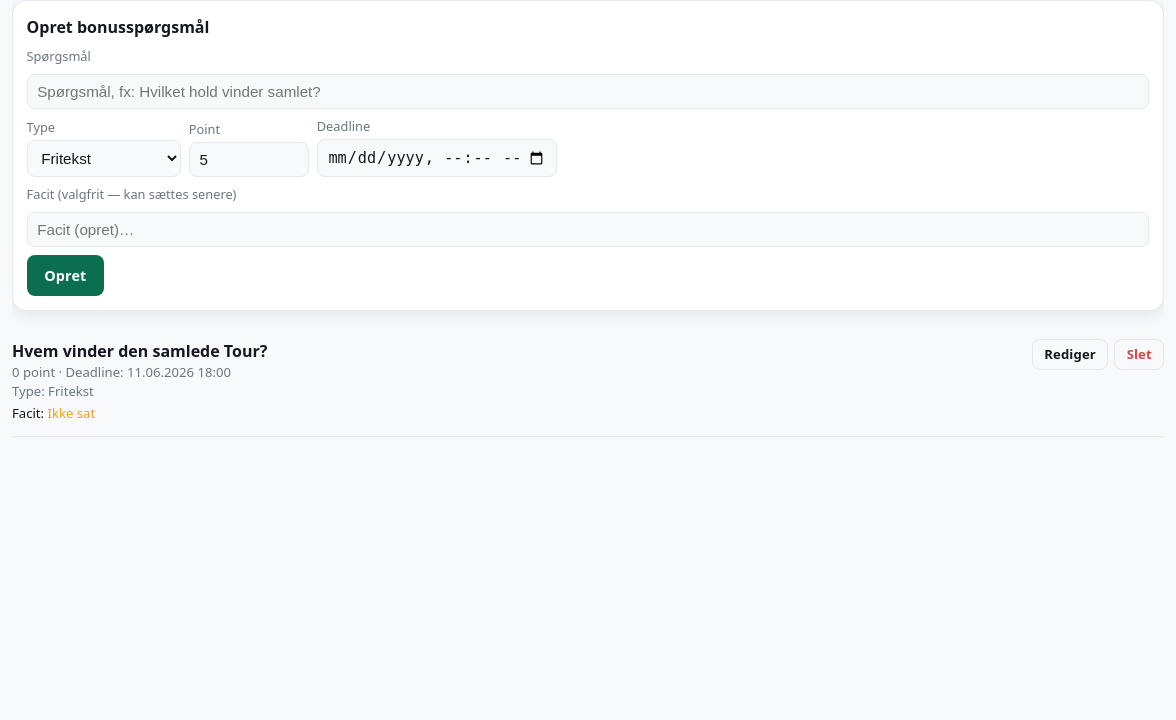
Test case: BonusTab › skifter facit-input når typen ændres i redigering
Click the button "Rediger" at (1070, 354), box [1032, 339, 1108, 370]
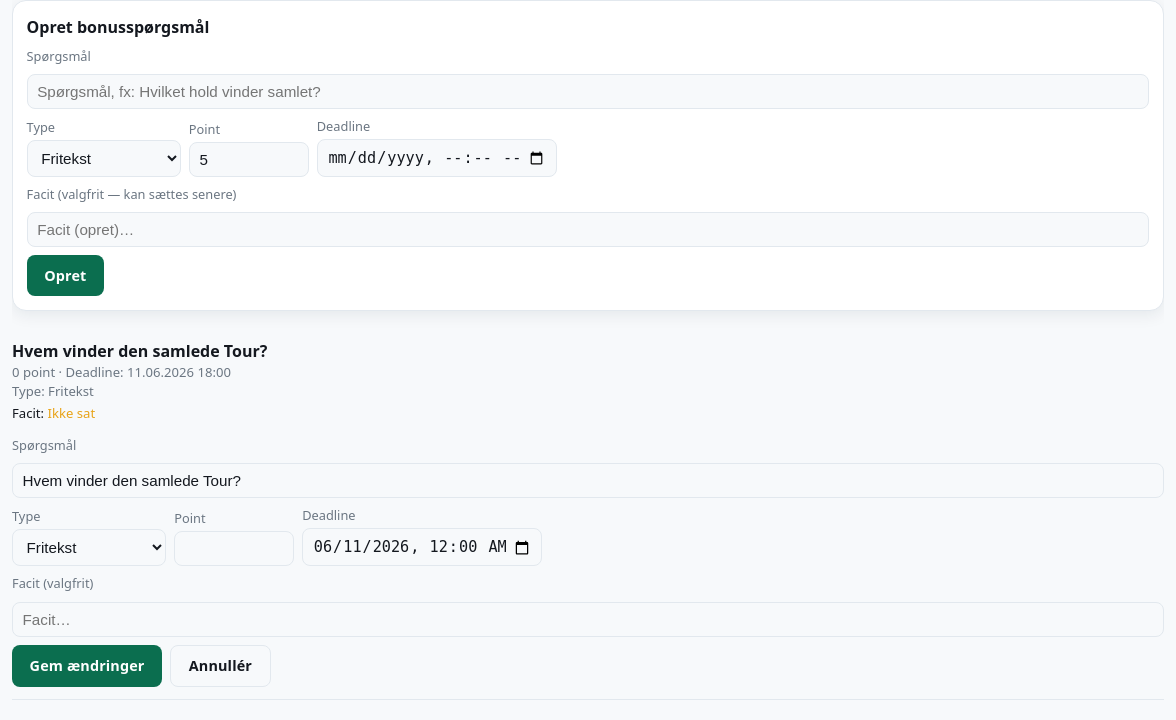
Select "Ja/nej" in the dropdown with test id "bonus-edit-type" at (89, 548), box [12, 529, 166, 566]
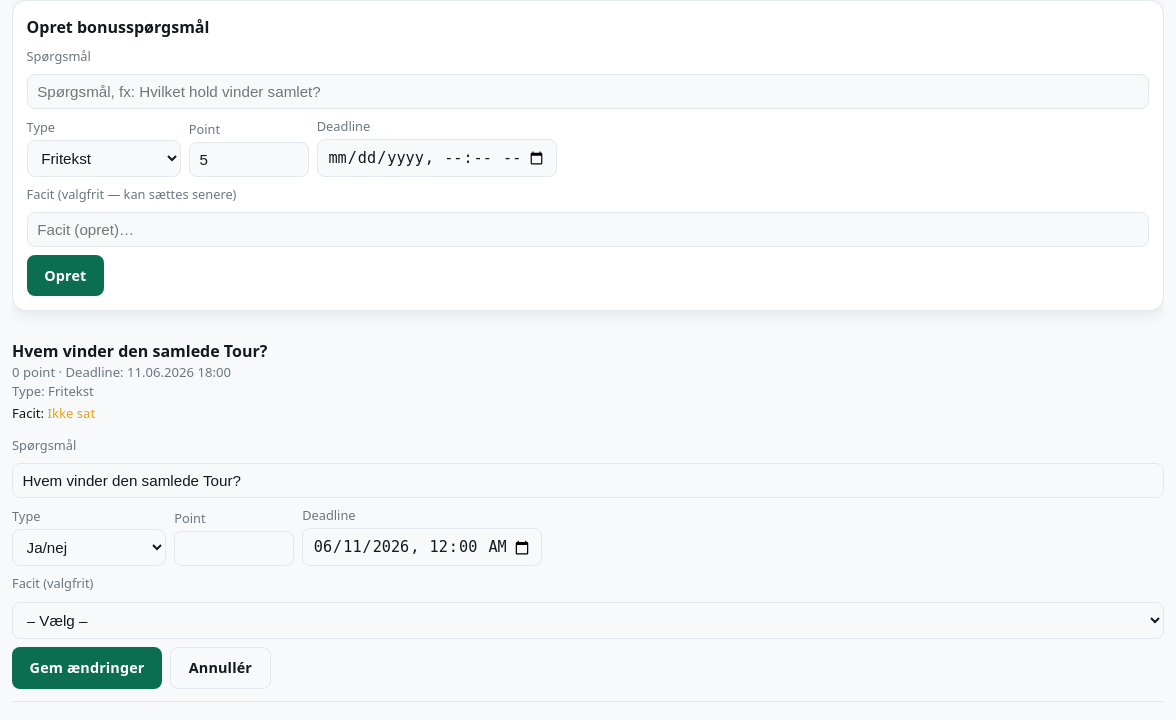
Check: the dropdown with test id "bonus-edit-facit-boolean" is shown, box [12, 602, 1164, 638]
